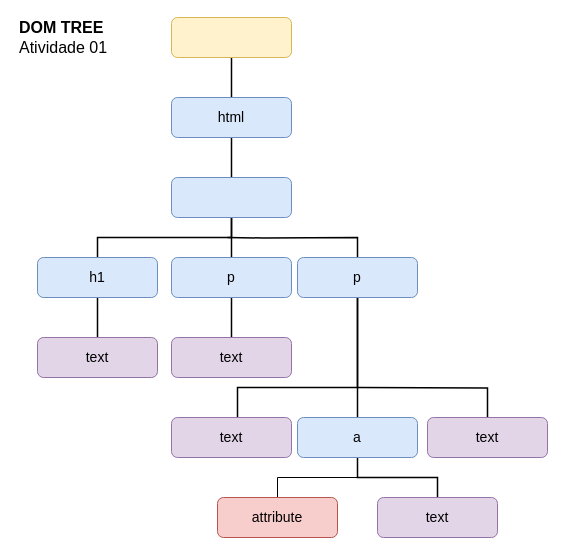
Some shapes in this 565 by 555 pixel diagram are drawn without their labels. Each missing label, with the box of its shape:
body: (170, 176, 292, 218)
document: (170, 16, 292, 58)
